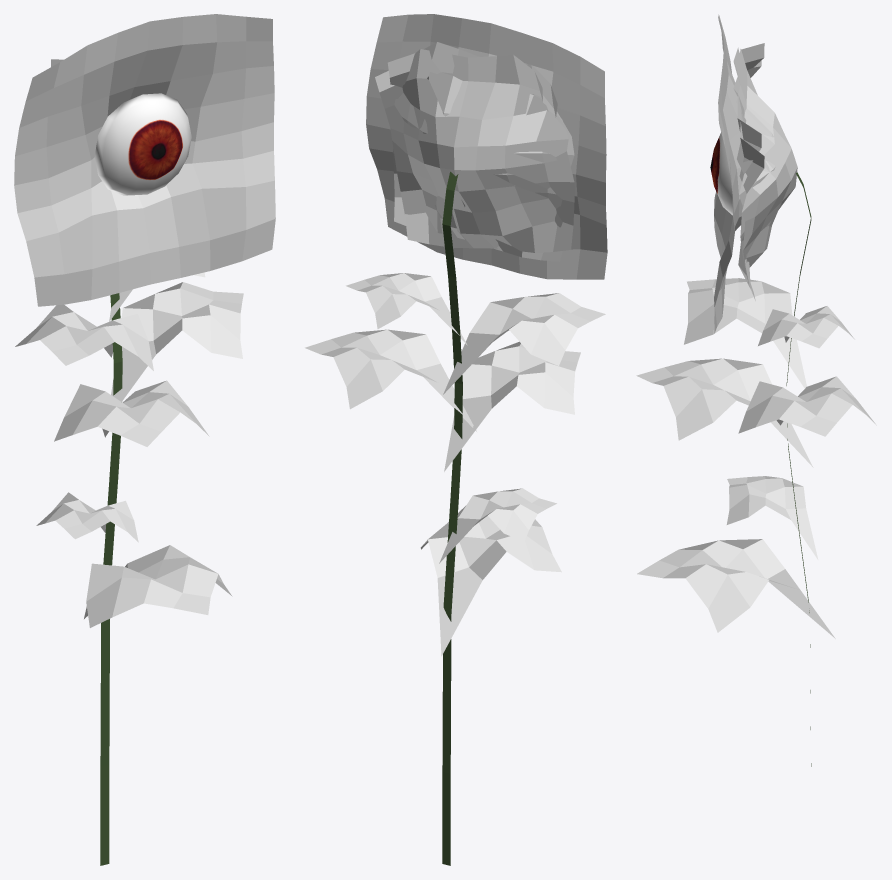
Rendered from sunflower.fbx.
The picture shows the model from 3 angles, left to right: view 1: azimuth 30°, elevation 25°; view 2: azimuth 150°, elevation 25°; view 3: azimuth 270°, elevation 25°; orthographic projection. The views are drawn at different scales.
Parts seen in each view (by area): view 1: head, leaf, leaf.003, leaf.005, leaf.001, stem, leaf.004; view 2: head, leaf.005, leaf.003, leaf, leaf.001, stem, leaf.004, leaf.002; view 3: head, leaf, leaf.005, leaf.001, leaf.003, leaf.004, leaf.002, stem.
Part boxes in pixels (bbox=[...]): head: bbox=[14, 14, 275, 306]; leaf: bbox=[84, 545, 232, 627]; leaf.003: bbox=[111, 282, 243, 401]; leaf.005: bbox=[54, 380, 209, 446]; leaf.001: bbox=[15, 304, 153, 370]; stem: bbox=[100, 293, 122, 865]; leaf.004: bbox=[36, 492, 138, 542]; head: bbox=[366, 14, 607, 279]; leaf.005: bbox=[444, 341, 580, 471]; leaf.003: bbox=[305, 329, 476, 431]; leaf: bbox=[420, 506, 561, 656]; leaf.001: bbox=[443, 293, 605, 394]; stem: bbox=[442, 171, 462, 865]; leaf.004: bbox=[439, 488, 556, 563]; leaf.002: bbox=[346, 273, 467, 345]; head: bbox=[710, 14, 797, 333]; leaf: bbox=[637, 539, 835, 638]; leaf.005: bbox=[636, 358, 813, 467]; leaf.001: bbox=[684, 278, 806, 388]; leaf.003: bbox=[738, 376, 876, 436]; leaf.004: bbox=[726, 476, 818, 559]; leaf.002: bbox=[758, 306, 854, 348]; stem: bbox=[786, 172, 811, 766].
Bounding box in the file's own units: 585 × 1765 × 473.
5 materials, 1 textured.
